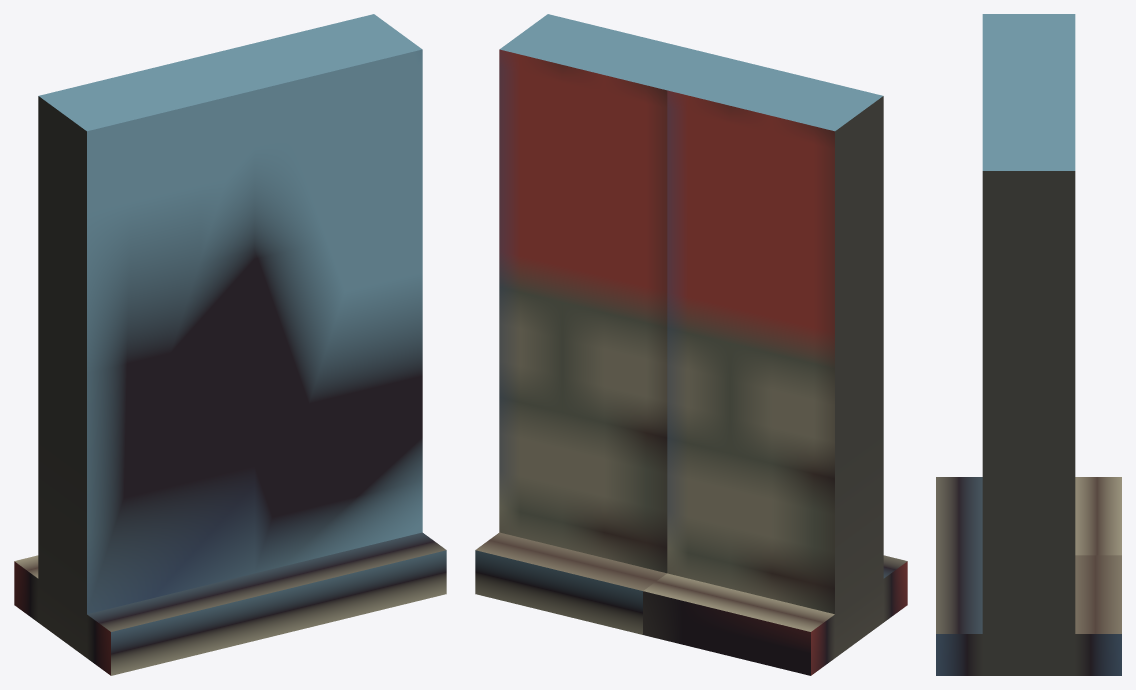
The model's file is casa2_paret_default.fbx.
3 renders of one model, left to right at view 1: azimuth 30°, elevation 25°; view 2: azimuth 150°, elevation 25°; view 3: azimuth 270°, elevation 25°, orthographic. The views are drawn at different scales.
Parts seen in each view (by area): view 1: Wall1.025; view 2: Wall1.025; view 3: Wall1.025.
Boxes of the visible parts, box(x1,y1,x2,y2) form: Wall1.025: box(14, 14, 446, 675); Wall1.025: box(475, 14, 907, 675); Wall1.025: box(936, 14, 1121, 675).
Bounding box in the file's own units: 200 × 300 × 100.
